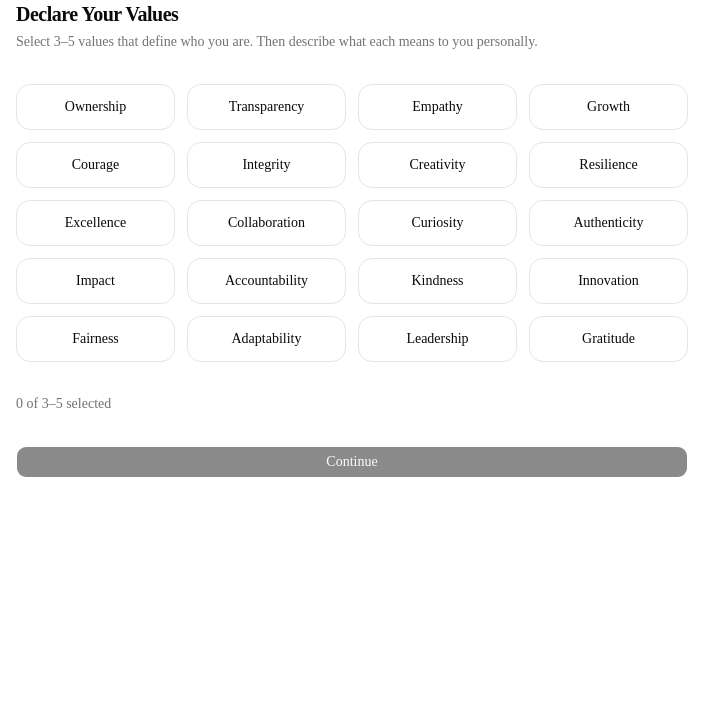
Test case: ValuesDeclaration › enables Continue when 3+ values have context
The width and height of the screenshot is (705, 720).
Step 1. Click the button "Ownership" → point(96, 107), box [16,84,175,130]
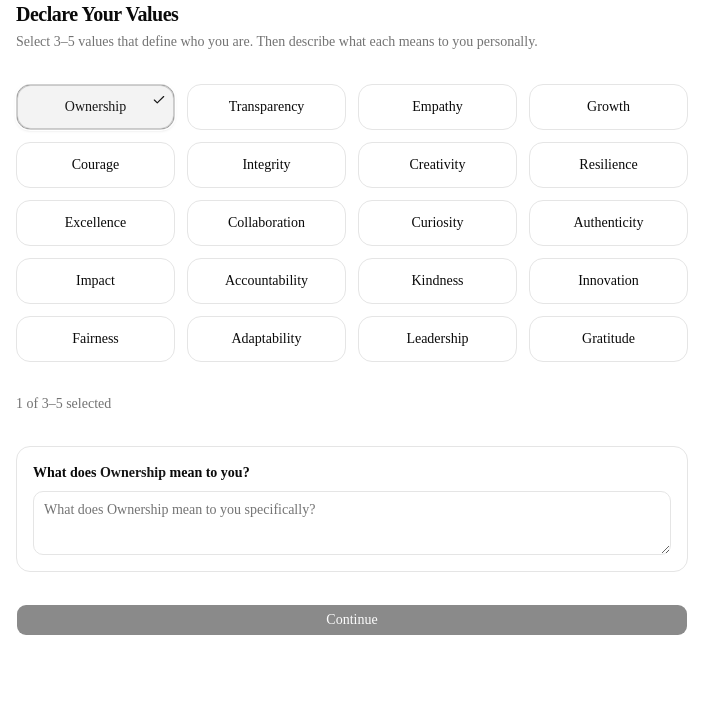
Step 2. Click the button "Growth" → point(608, 107), box [529,84,688,130]
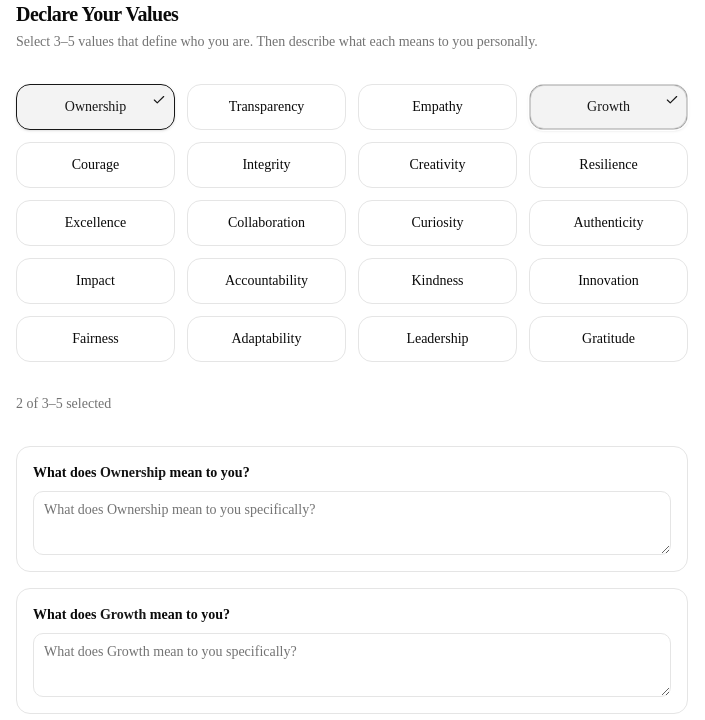
Step 3. Click the button "Empathy" → point(438, 107), box [358,84,517,130]
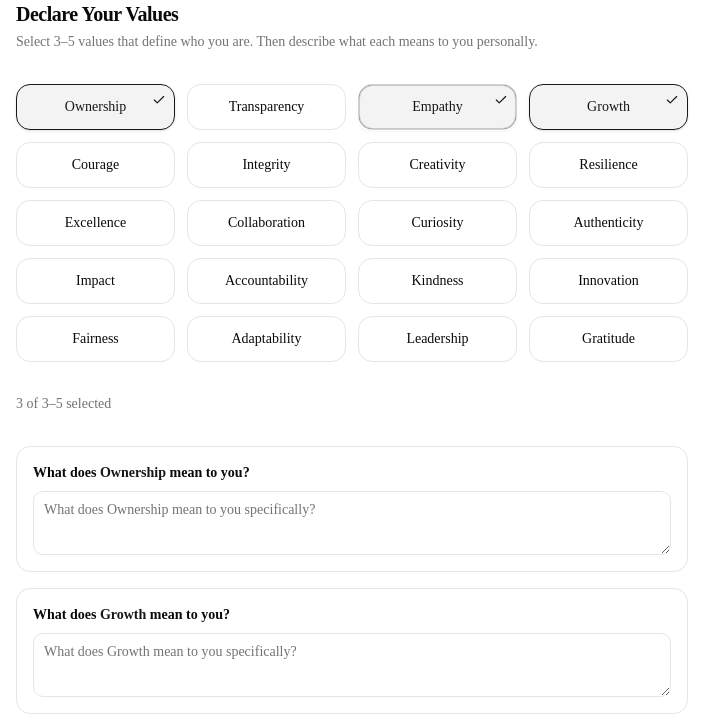
Step 4. Type "My context" into the text box with placeholder "What does Ownership mean to you specifically?" → point(352, 523), box [33,491,671,555]
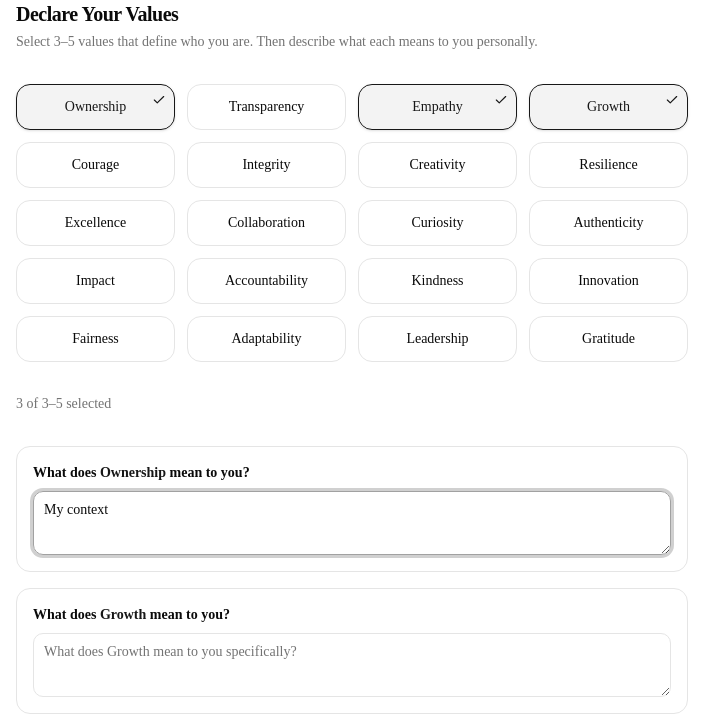
Step 5. Type "My context" into the text box with placeholder "What does Growth mean to you specifically?" → point(352, 665), box [33,633,671,697]
(page scrolled)
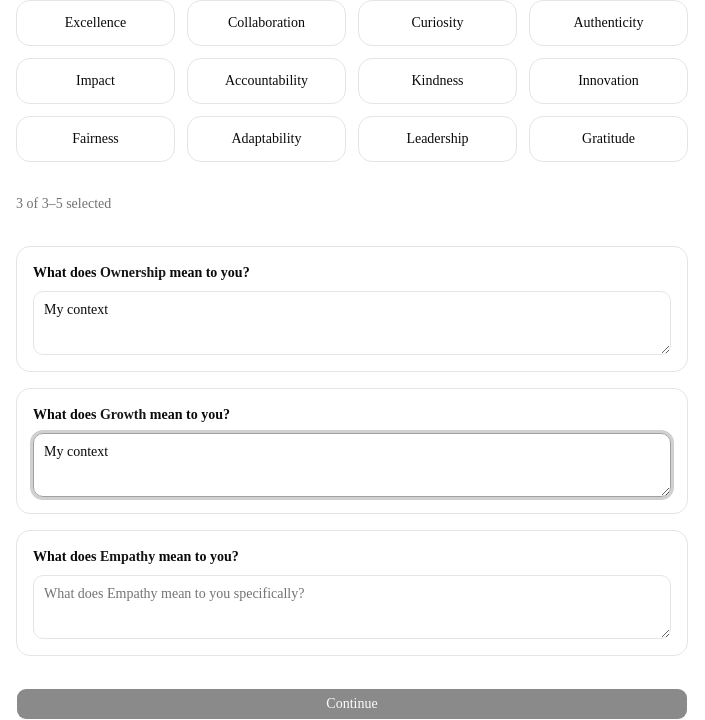
Step 6. Type "My context" into the text box with placeholder "What does Empathy mean to you specifically?" → point(352, 607), box [33,575,671,639]
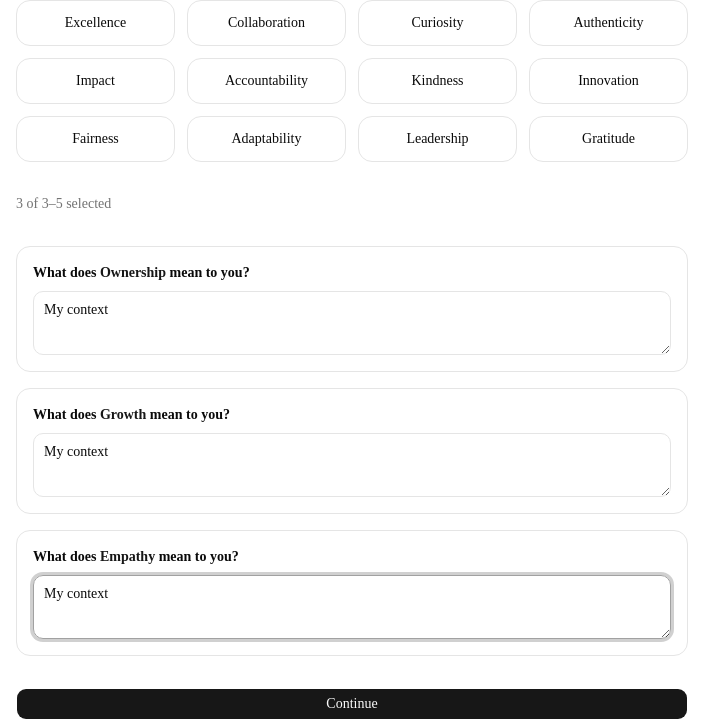
Check: the button "Continue" is enabled, box [16,688,688,719]
